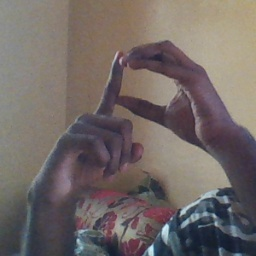P: (63, 38, 209, 177)
